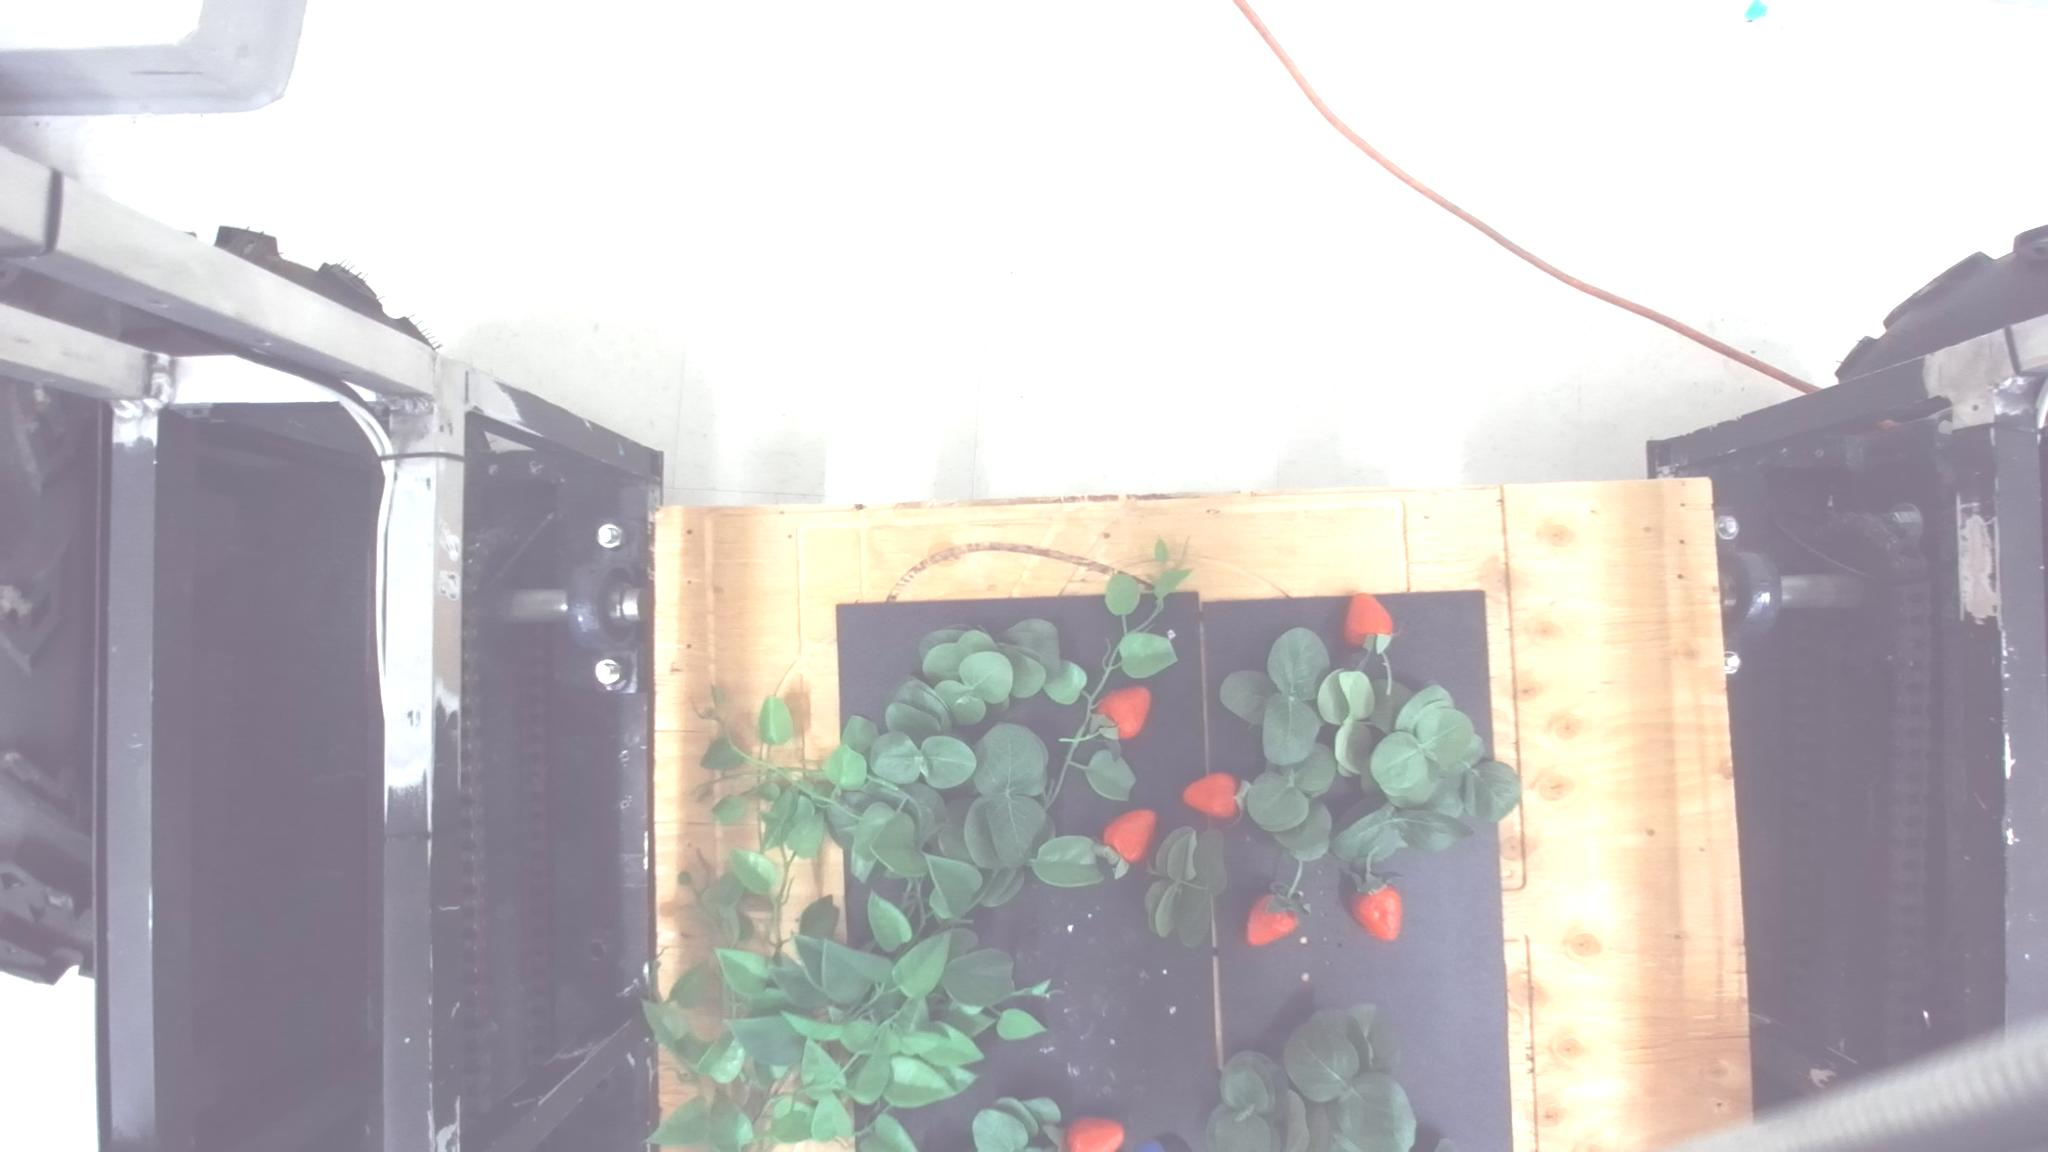strawberry: (1343, 869, 1402, 942), (1343, 591, 1397, 654), (1093, 684, 1151, 740), (1101, 807, 1156, 865), (1245, 890, 1300, 947), (1182, 771, 1241, 823), (1063, 1115, 1124, 1151)
